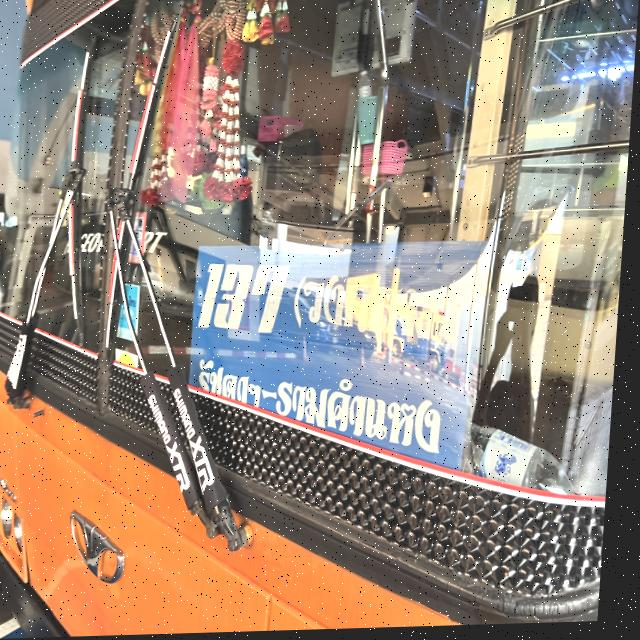BMTA-bus: (0, 0, 640, 640)
Destination-Sign-Normal: (187, 241, 483, 503)
